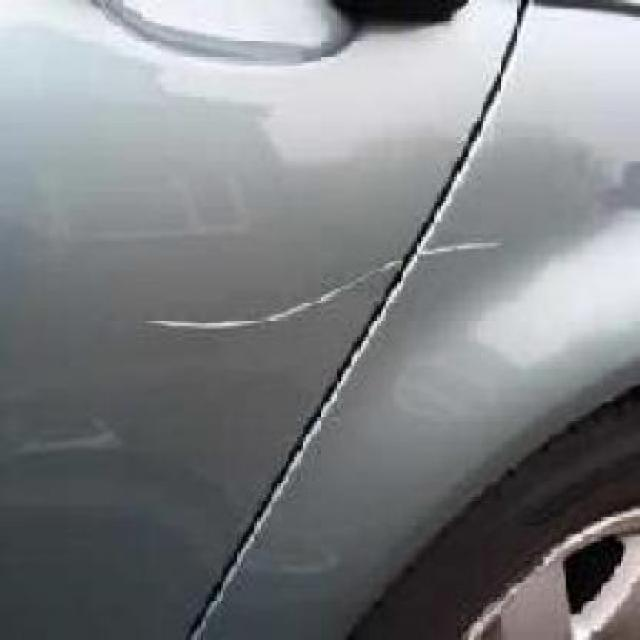dent-or-scratch: (153, 232, 549, 340)
